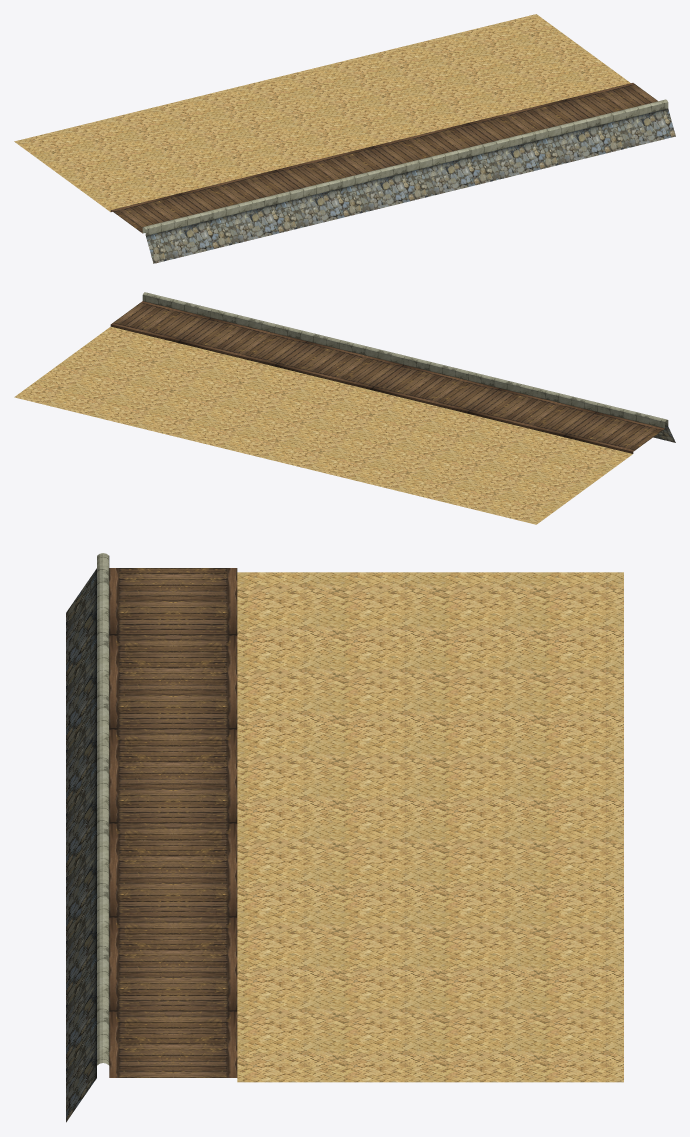
Rendered from Dock_1x2_NoSand.FBX.
3 renders of one model, top to bottom at view 1: azimuth 30°, elevation 25°; view 2: azimuth 150°, elevation 25°; view 3: azimuth 270°, elevation 25°, orthographic. The views are drawn at different scales.
Parts seen in each view (by area): view 1: Dock_1x2_NoSand; view 2: Dock_1x2_NoSand; view 3: Dock_1x2_NoSand.
Part boxes in pixels (bbox=[...]): Dock_1x2_NoSand: bbox=[14, 14, 675, 263]; Dock_1x2_NoSand: bbox=[14, 292, 675, 524]; Dock_1x2_NoSand: bbox=[66, 553, 623, 1122].
Size of the model in its own units: 57.76 by 26.72 by 3.16.
